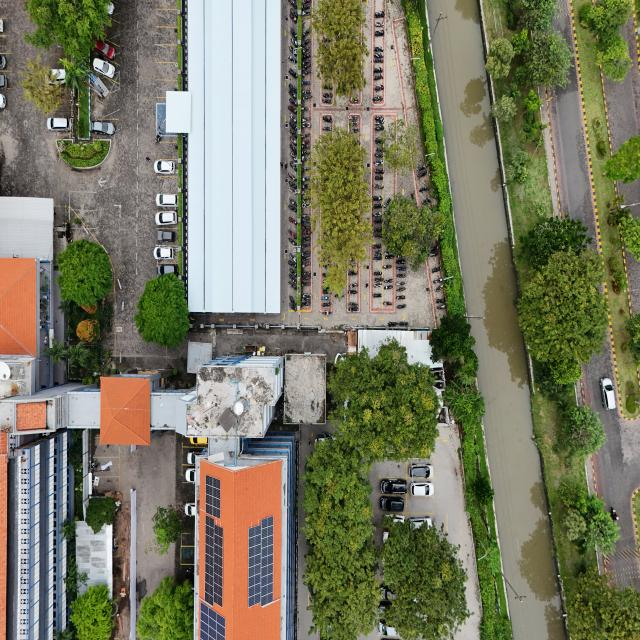Tree: (53, 237, 122, 311), (133, 271, 196, 347), (21, 53, 74, 116), (560, 398, 604, 460), (82, 492, 125, 538), (485, 36, 516, 80), (468, 466, 498, 509), (493, 90, 517, 124), (522, 89, 540, 115)
